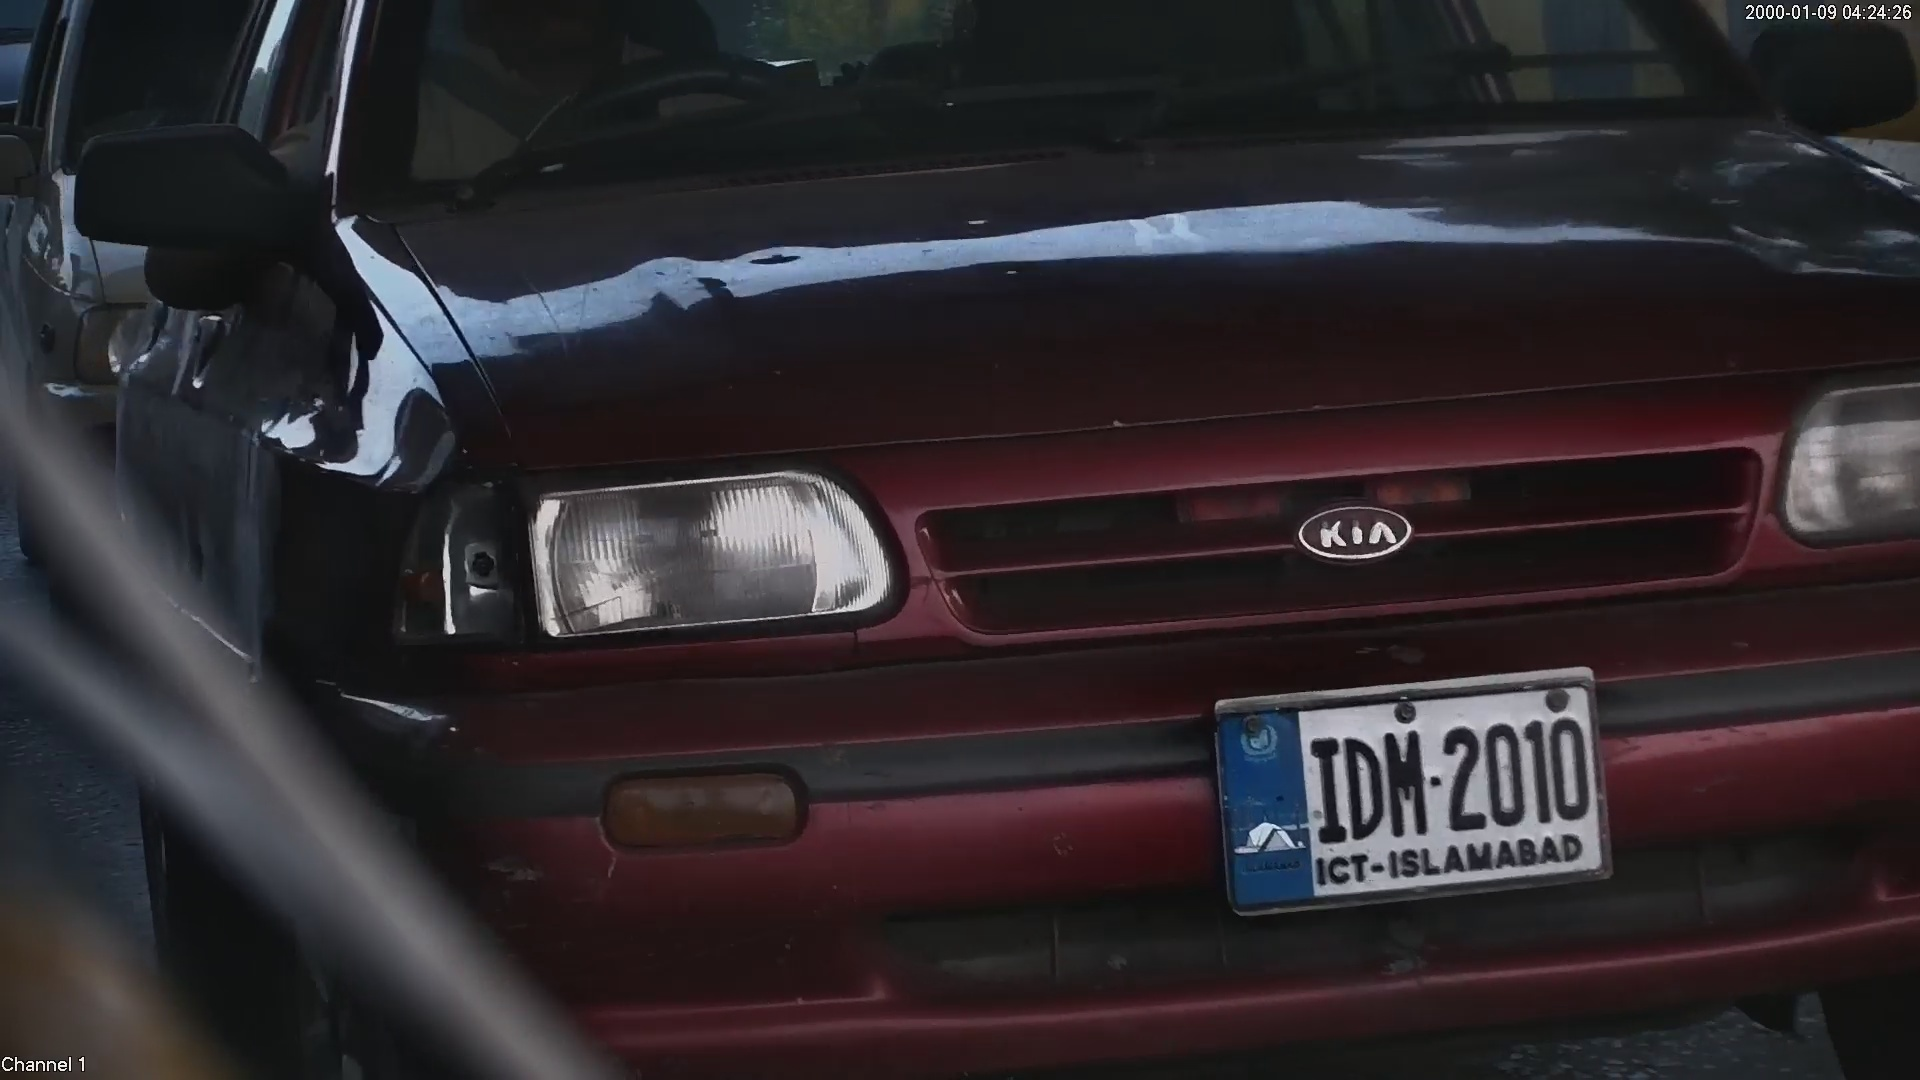Number_Plate: (1202, 666, 1643, 905)
